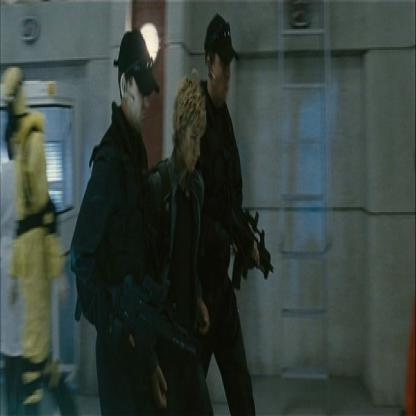Guns: (73, 259, 204, 379), (219, 197, 277, 298)
